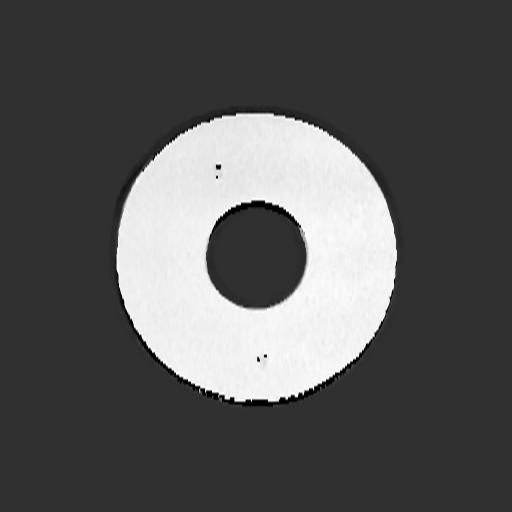defect: (214, 162, 224, 182), (257, 352, 268, 365)
